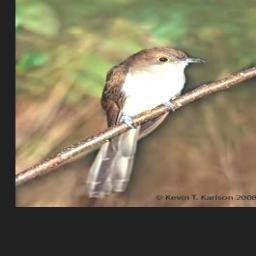Cuckoo: (84, 45, 203, 197)
